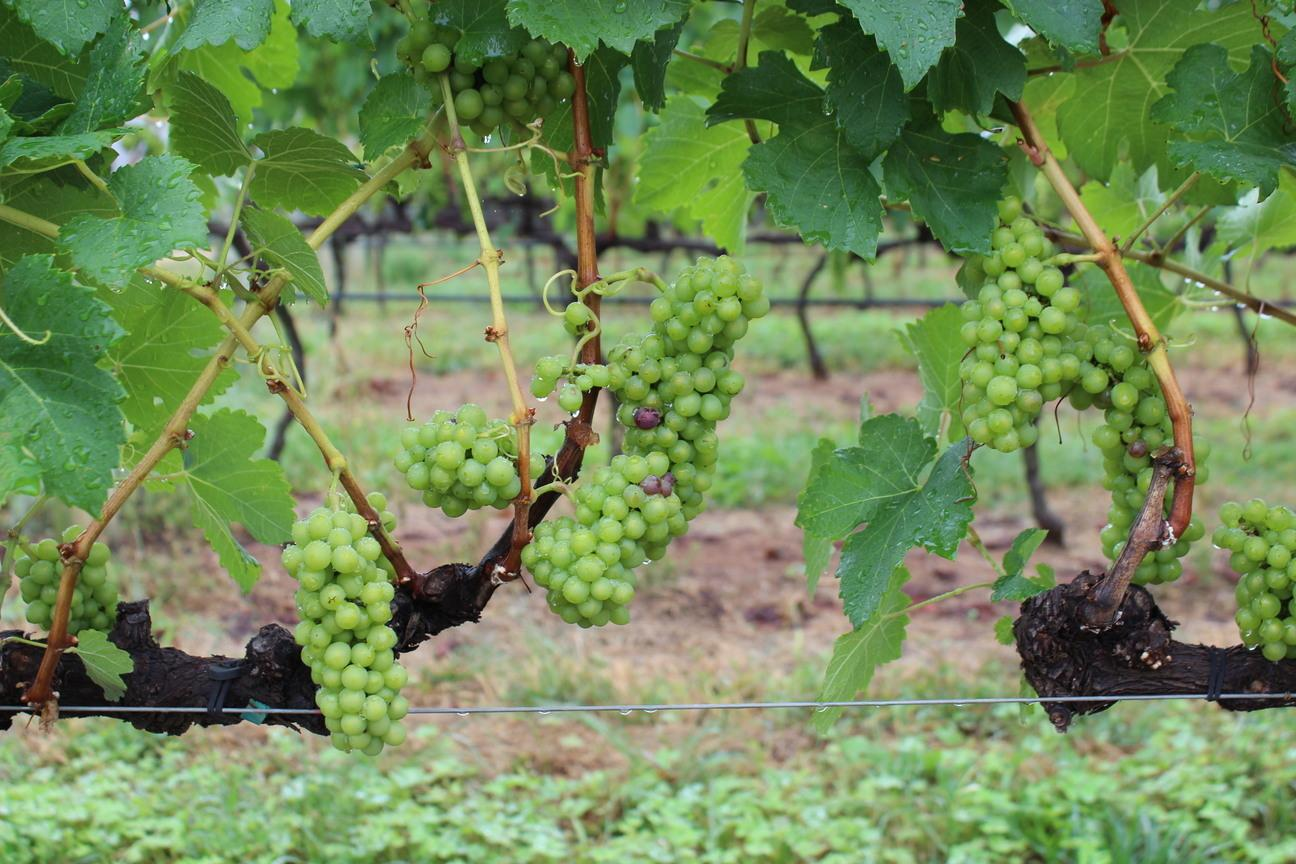leaf: (708, 52, 882, 256), (1058, 0, 1254, 180), (0, 256, 123, 511), (837, 438, 972, 626), (1152, 44, 1295, 195), (182, 409, 293, 591), (99, 275, 223, 437), (742, 113, 882, 256), (57, 155, 205, 283), (635, 94, 753, 252), (797, 414, 934, 538), (162, 0, 299, 121), (884, 120, 1007, 252), (812, 21, 908, 157), (817, 567, 908, 700), (927, 0, 1026, 113), (506, 0, 690, 60), (840, 0, 961, 90), (57, 14, 143, 133), (249, 126, 365, 214), (168, 71, 250, 175), (243, 206, 328, 306), (903, 303, 965, 440), (0, 2, 87, 98), (706, 52, 822, 122), (1217, 171, 1295, 257), (428, 0, 529, 63), (357, 72, 430, 159), (1079, 163, 1164, 237), (12, 0, 123, 55), (1, 174, 116, 224), (0, 129, 125, 171), (1003, 0, 1101, 52), (175, 0, 273, 48), (67, 630, 132, 700), (630, 21, 681, 110), (990, 527, 1052, 600), (585, 45, 629, 147), (1126, 260, 1183, 329), (292, 0, 372, 47), (1071, 268, 1127, 328), (751, 5, 814, 54), (0, 220, 55, 268), (1003, 527, 1046, 575), (0, 445, 37, 499), (804, 531, 832, 598), (804, 530, 832, 596), (544, 99, 573, 151), (810, 438, 834, 475), (785, 0, 838, 16), (1277, 29, 1295, 66), (1283, 76, 1295, 112), (923, 437, 933, 448), (596, 180, 599, 202), (913, 425, 920, 434), (149, 81, 156, 85), (155, 71, 162, 75), (285, 295, 290, 298), (0, 178, 5, 180)
